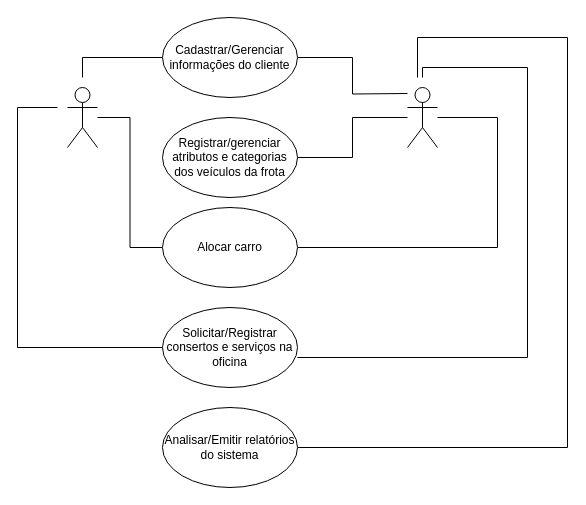
Some shapes in this 586 by 505 pixel diagram are drawn without their labels. Each missing label, with the box of its shape:
Funcionário da locadora: (406, 86, 438, 148)
Usuário/Cliente: (66, 86, 98, 148)
